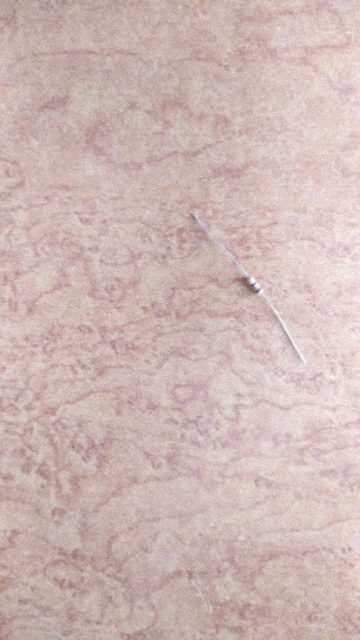resistor: (246, 276, 262, 294)
